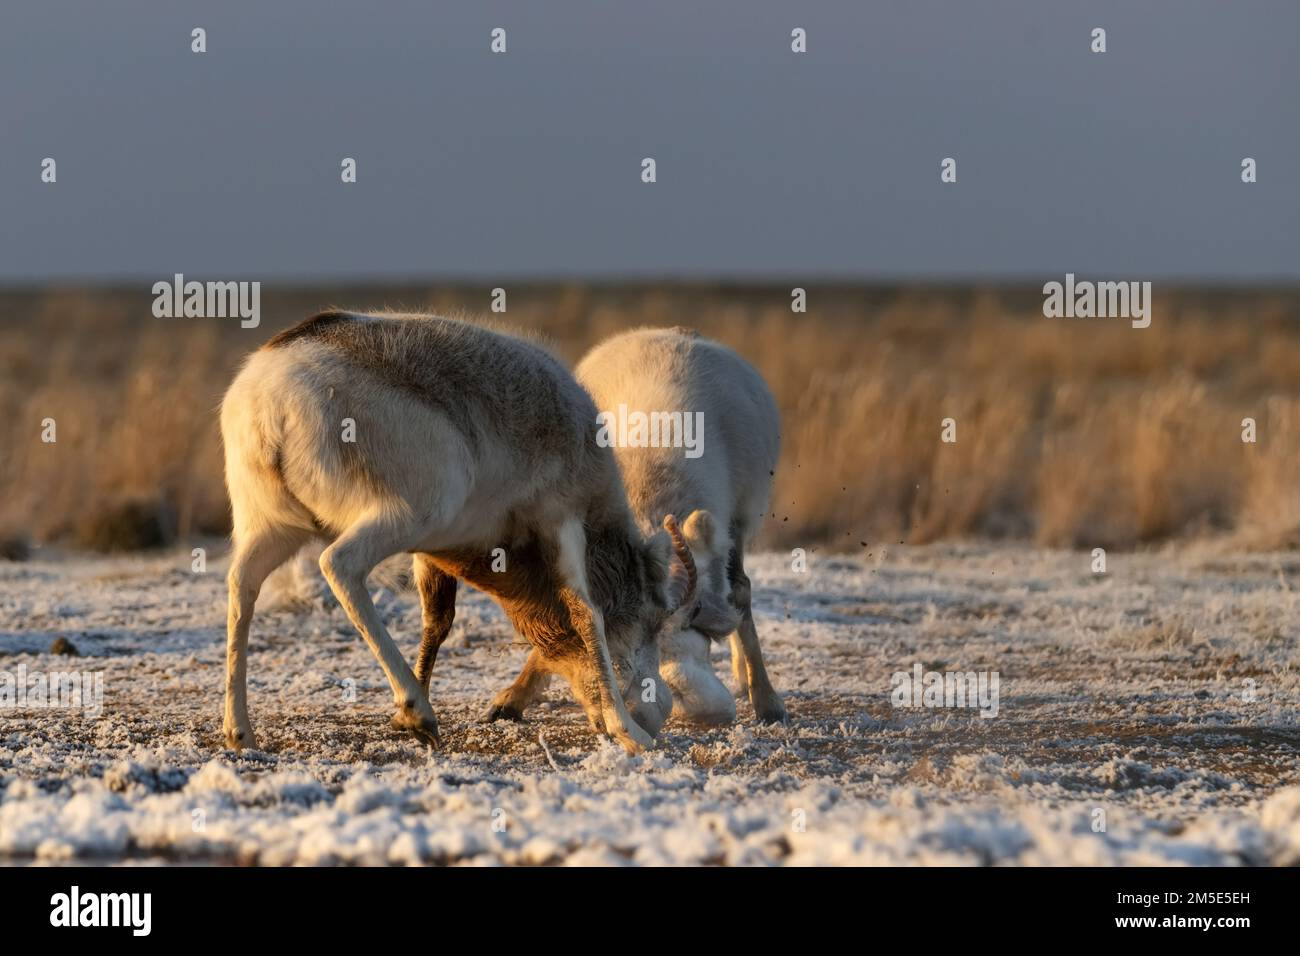saiga: (206, 306, 696, 772)
